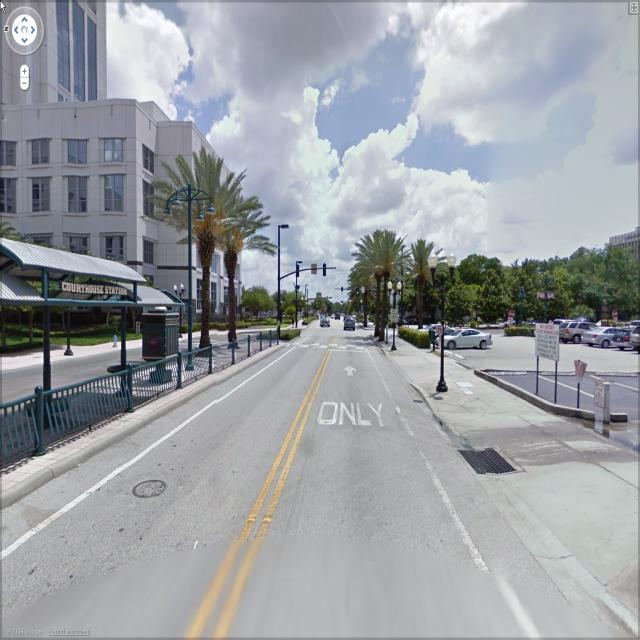b_1: (3, 94, 149, 339), (0, 2, 136, 104)
b_2: (0, 98, 244, 318), (396, 248, 464, 324), (608, 219, 640, 278)
